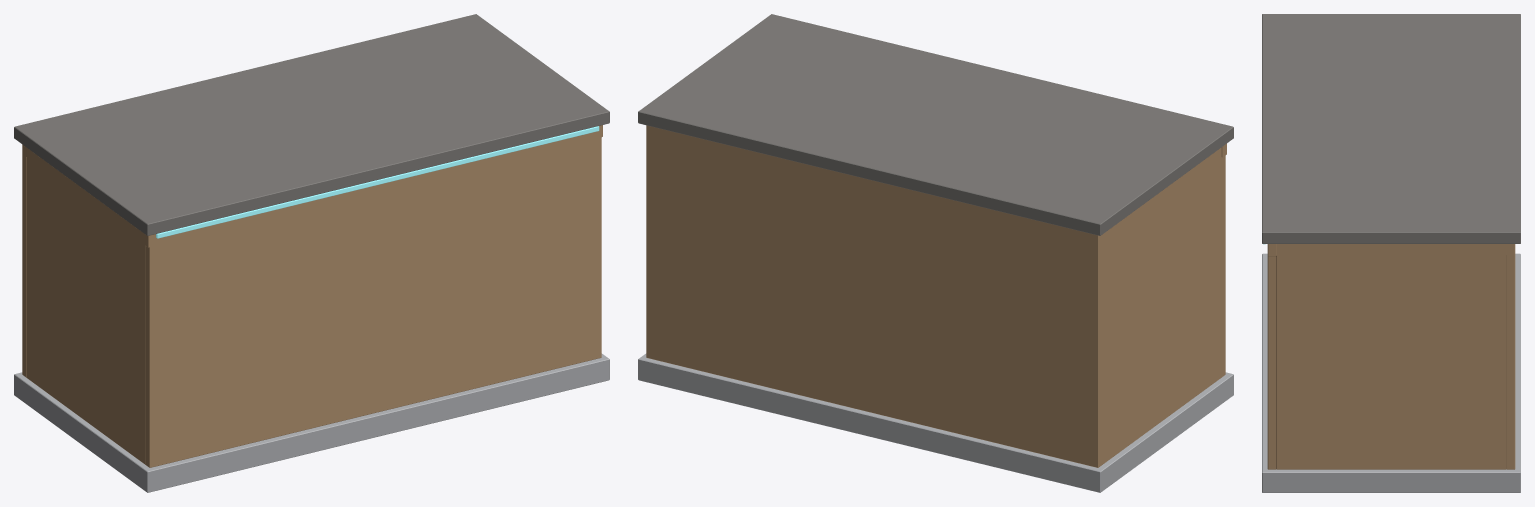
Rendered from prop_counter_01.glb.
3 renders of one model, left to right at view 1: azimuth 30°, elevation 25°; view 2: azimuth 150°, elevation 25°; view 3: azimuth 270°, elevation 25°, orthographic. The views are drawn at different scales.
Visible parts, largest first — view 1: prop_counter_01; view 2: prop_counter_01; view 3: prop_counter_01.
Part boxes in pixels (box(x1,y1,x2,y2)): prop_counter_01: box(14, 14, 609, 492); prop_counter_01: box(638, 14, 1233, 492); prop_counter_01: box(1262, 14, 1520, 492).
Bounding box in the file's own units: 1.8 × 1 × 0.9.
